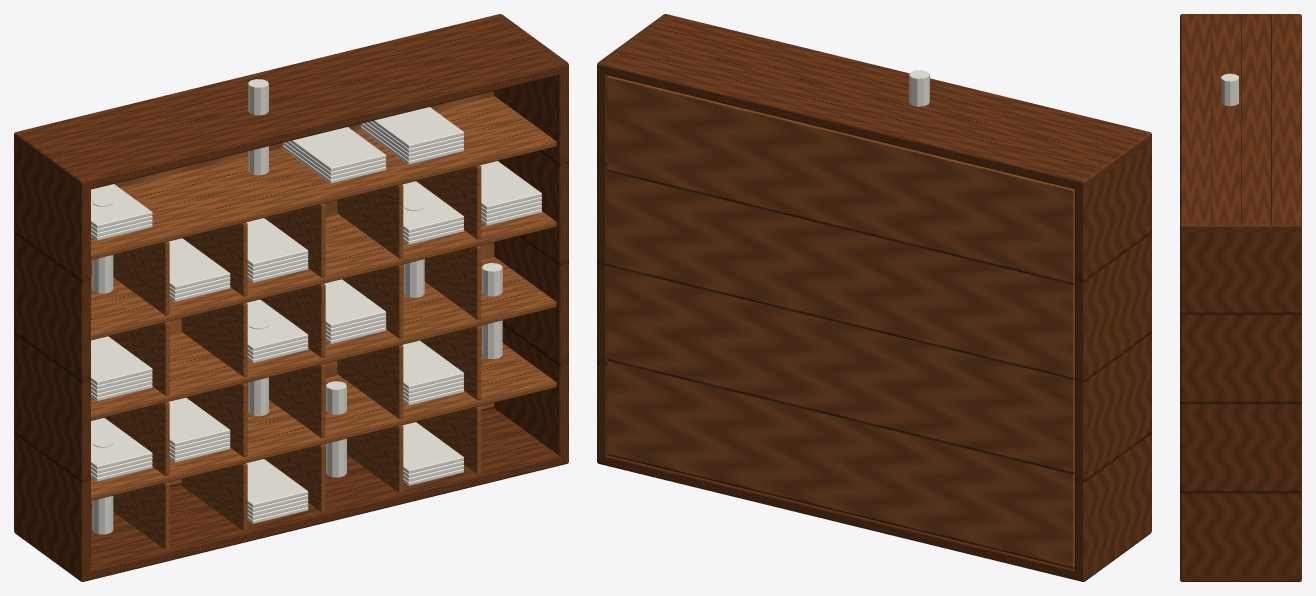
Rendered from printing-press-and-newspaper-office-pigeonhole-rack-feeeb375__37760.glb.
3 views of the same model, side by side, from view 1: azimuth 30°, elevation 25°; view 2: azimuth 150°, elevation 25°; view 3: azimuth 270°, elevation 25° (orthographic). The views are drawn at different scales.
Parts seen in each view (by area): view 1: pigeonhole-rack; view 2: pigeonhole-rack; view 3: pigeonhole-rack.
Boxes of the visible parts, x1,y1,x2,y2 form: pigeonhole-rack: (14,14,568,581); pigeonhole-rack: (597,14,1151,581); pigeonhole-rack: (1180,14,1301,581).
Bounding box in the file's own units: 1.4 × 1.18 × 0.3399.
Materials: 3 (2 with a texture image).
